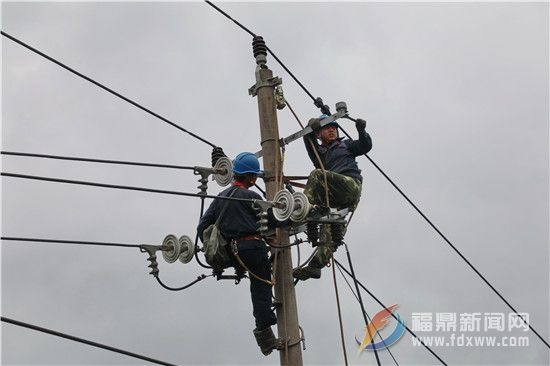blue: (230, 151, 259, 188), (312, 112, 339, 141)
